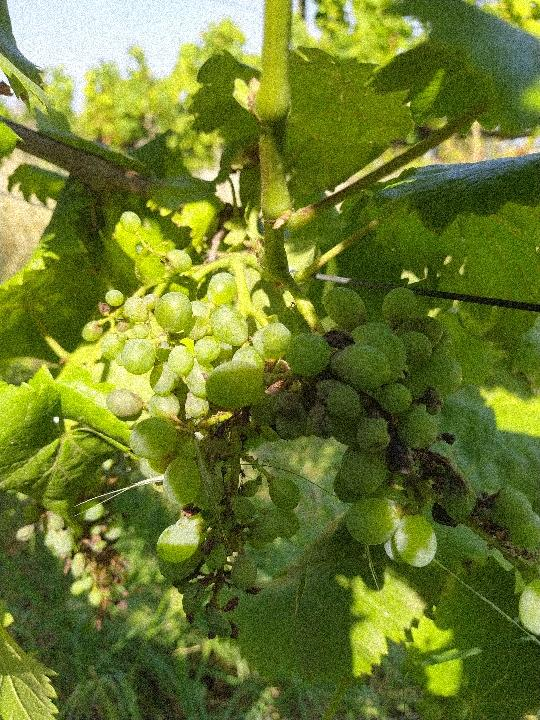grape: (82, 212, 536, 648)
